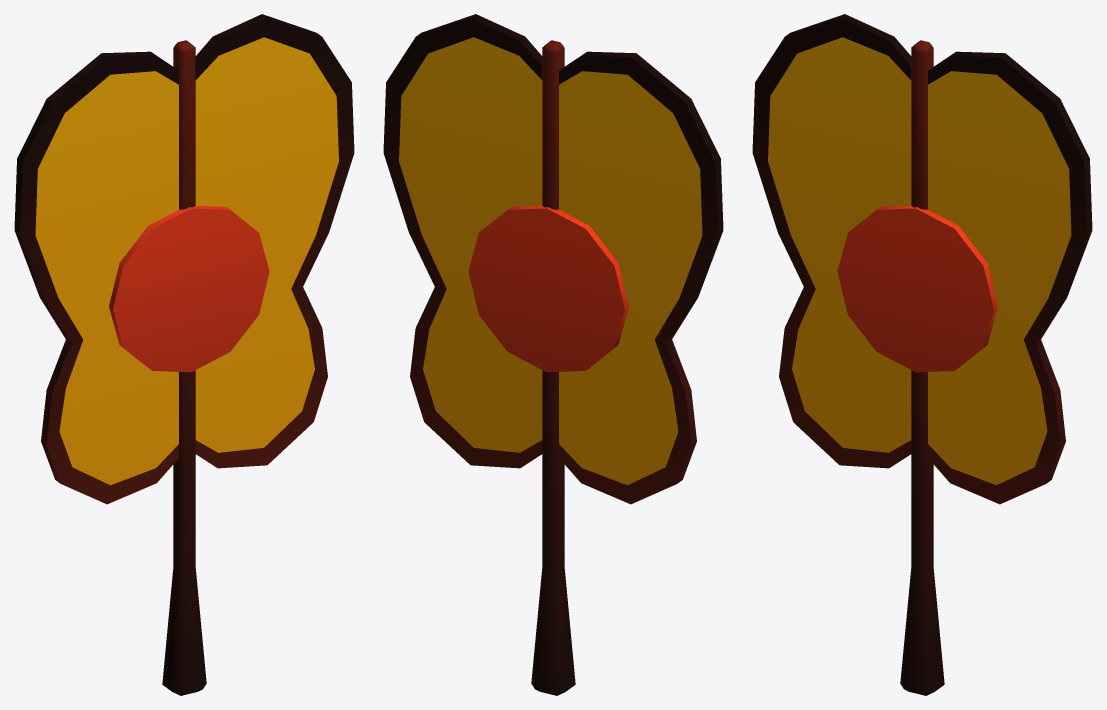
Rendered from Arm_Samurai.fbx.
3 views of the same model, side by side, from view 1: azimuth 30°, elevation 25°; view 2: azimuth 150°, elevation 25°; view 3: azimuth 330°, elevation 25° (orthographic).
Visible parts, largest first — view 1: Arm_Samurai; view 2: Arm_Samurai; view 3: Arm_Samurai.
Part boxes in pixels (x1,y1,x2,y2): Arm_Samurai: (14, 14, 354, 695); Arm_Samurai: (383, 14, 723, 695); Arm_Samurai: (752, 14, 1092, 695).
Bounding box in the file's own units: 54.19 × 101 × 5.58.
